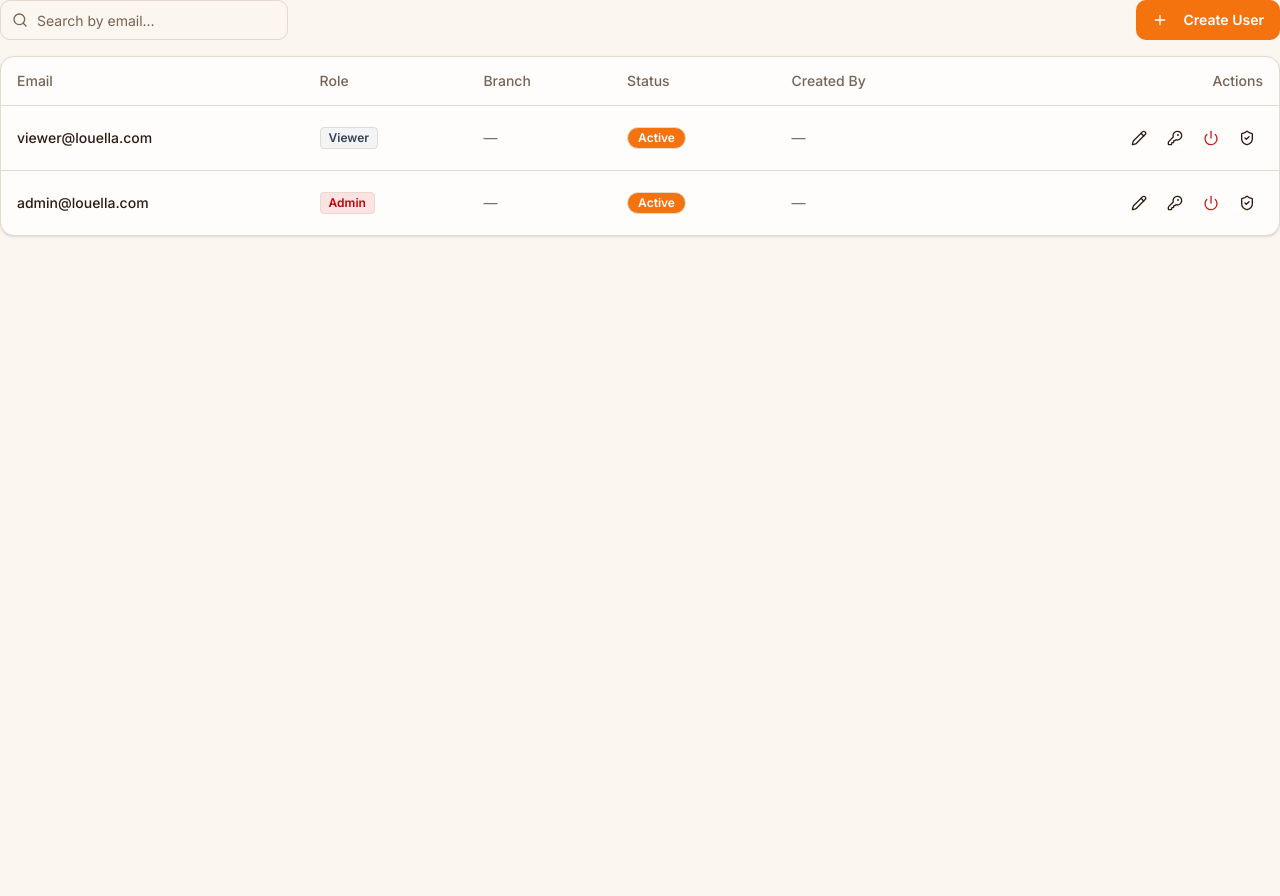
Users screen — per-user permission drawer › shows the account its role currently grants
Expected: the text "viewer@louella.com" is shown, [1,105,304,170]
Step 1. Click the 5th button → (1247, 138), box [1231,122,1263,154]
(page scrolled)
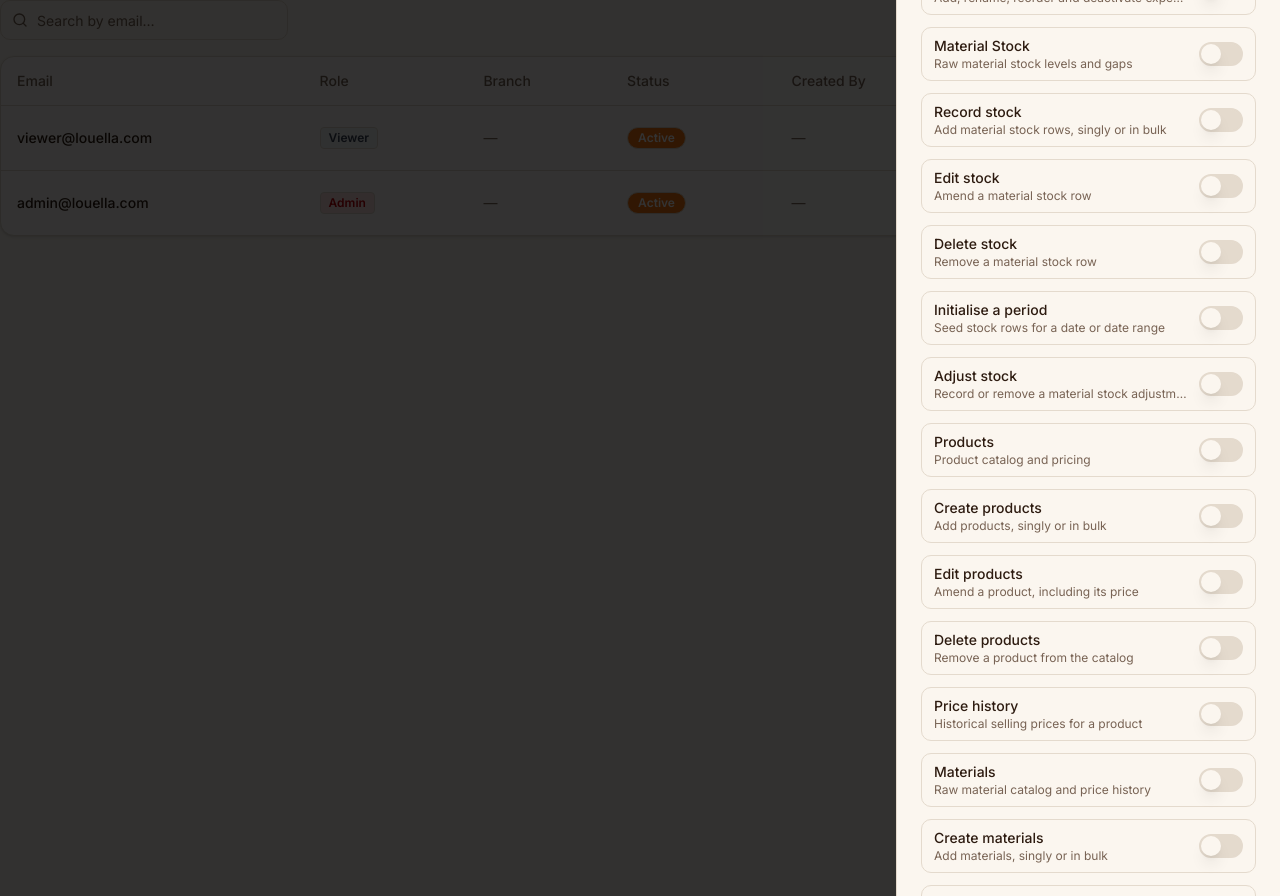
Result: the switch named "Products" is not checked at [1199,438,1243,462]
